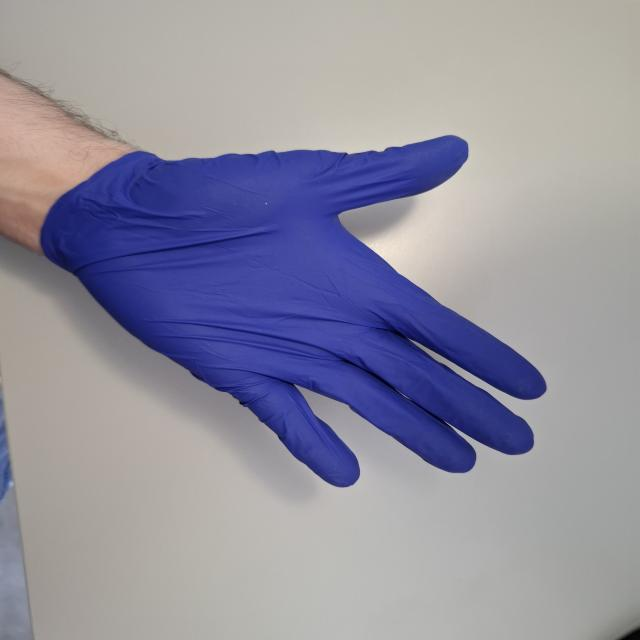glove_on: (36, 130, 552, 492)
